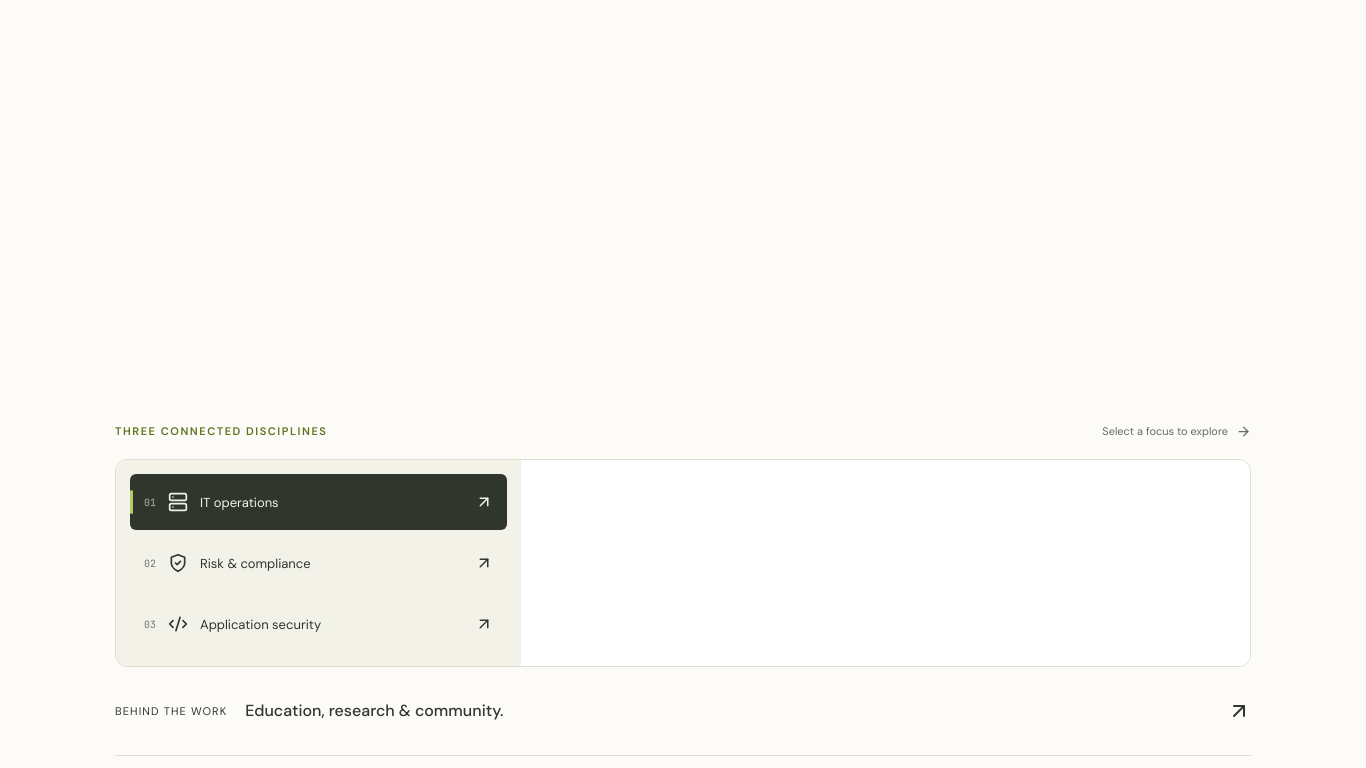
focus selectors expose the selected CV evidence
(page scrolled)
Click the button "02 Risk & compliance" at x=255, y=563, box x1=130 y1=535 x2=507 y2=591
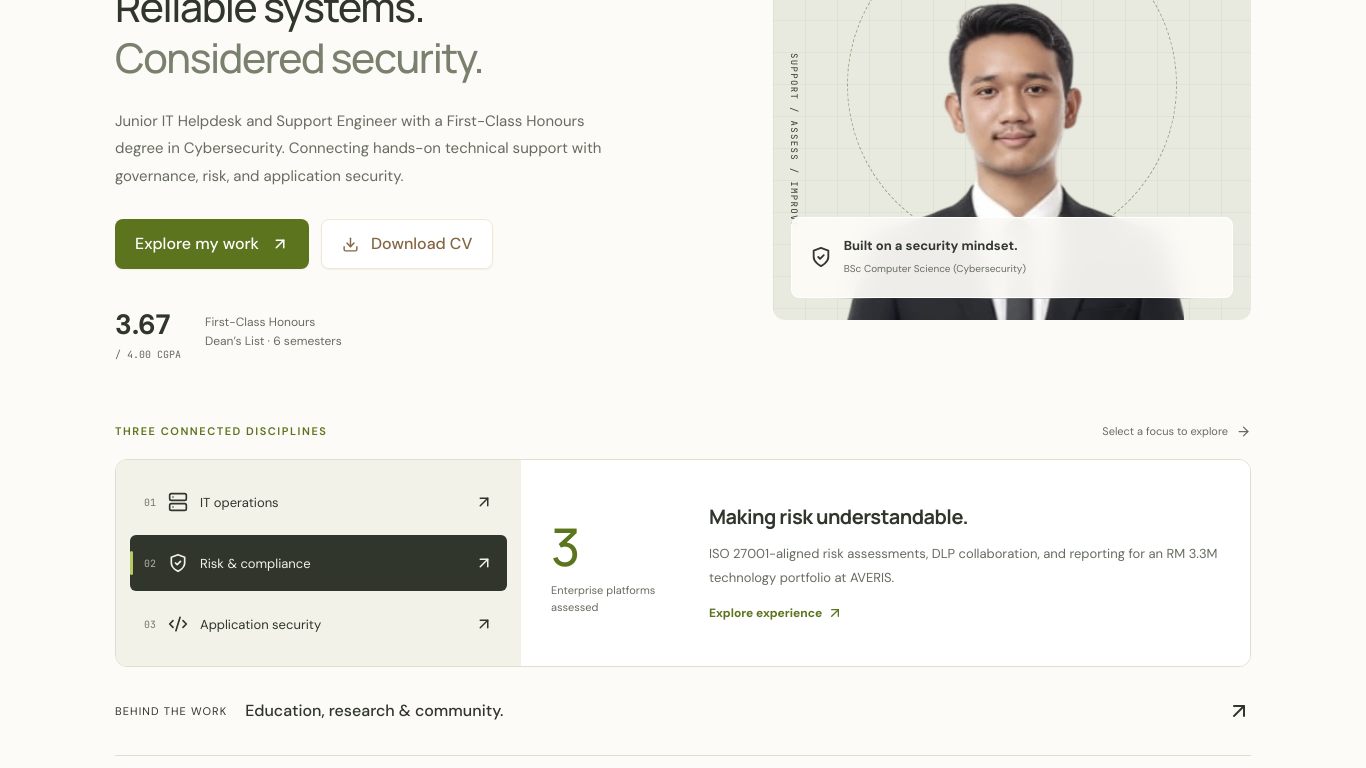
expect the heading "Making risk understandable." is shown: met, box x1=709 y1=503 x2=968 y2=530
